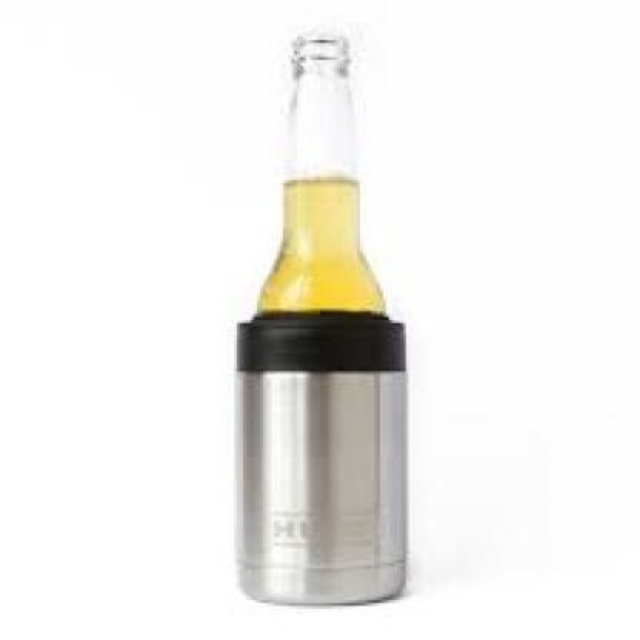trash: (237, 35, 405, 603)
